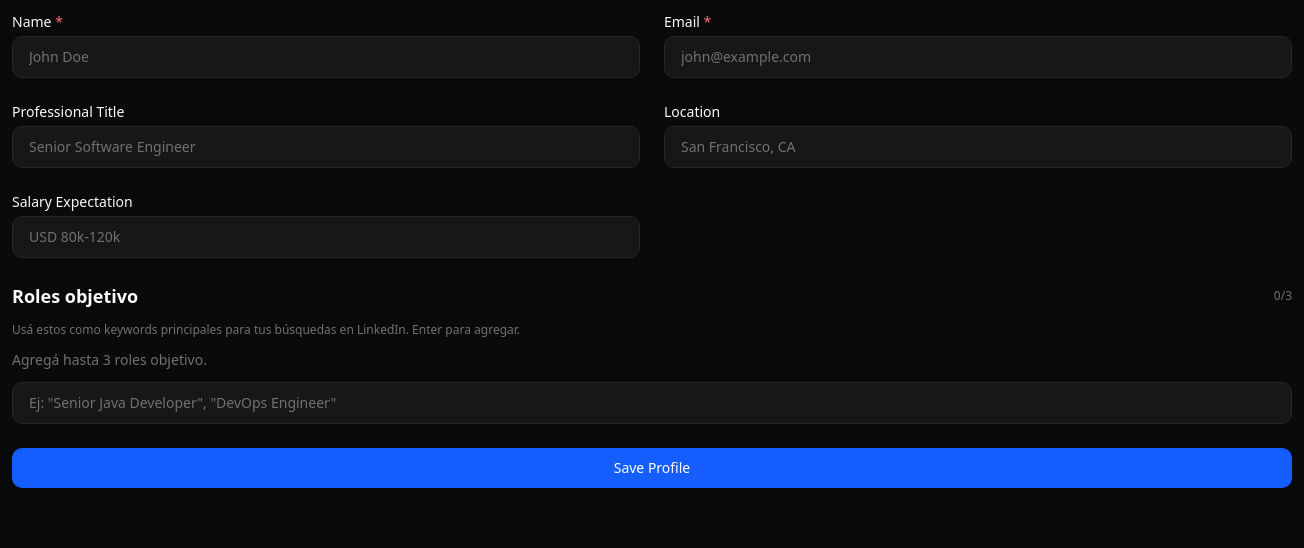
Test: ProfileForm › shows success message after save
The width and height of the screenshot is (1304, 548).
Step 1. Type "Jane Doe" into the field labelled "Name *" → x=326, y=57, box top-left (12, 36), bottom-right (640, 78)
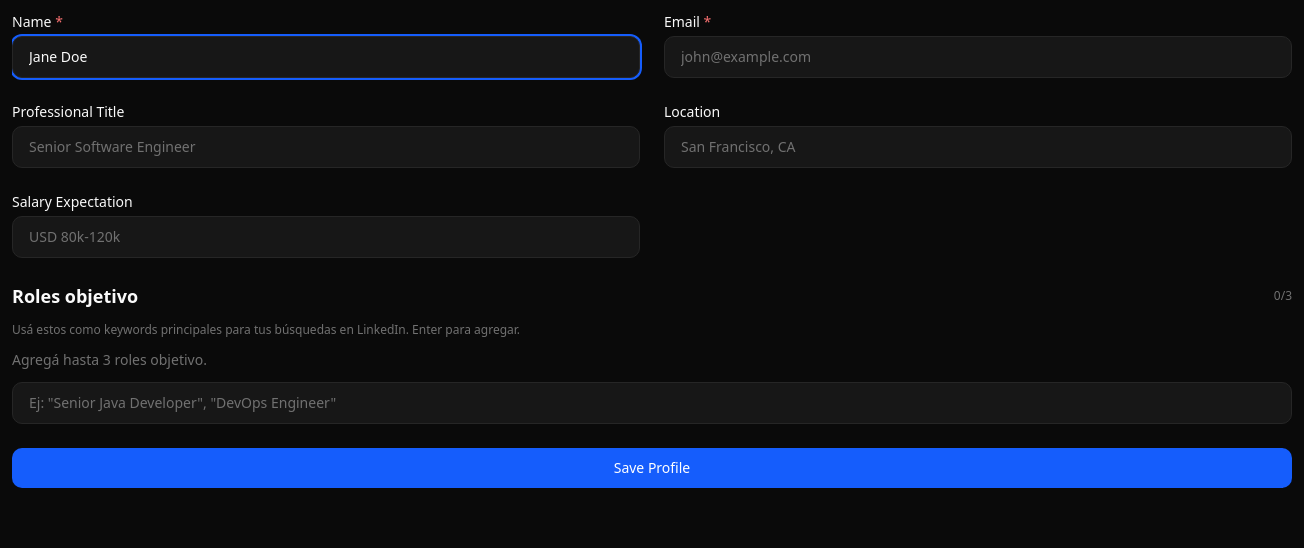
Step 2. Type "jane@example.com" into the field labelled "Email *" → x=978, y=57, box top-left (664, 36), bottom-right (1292, 78)
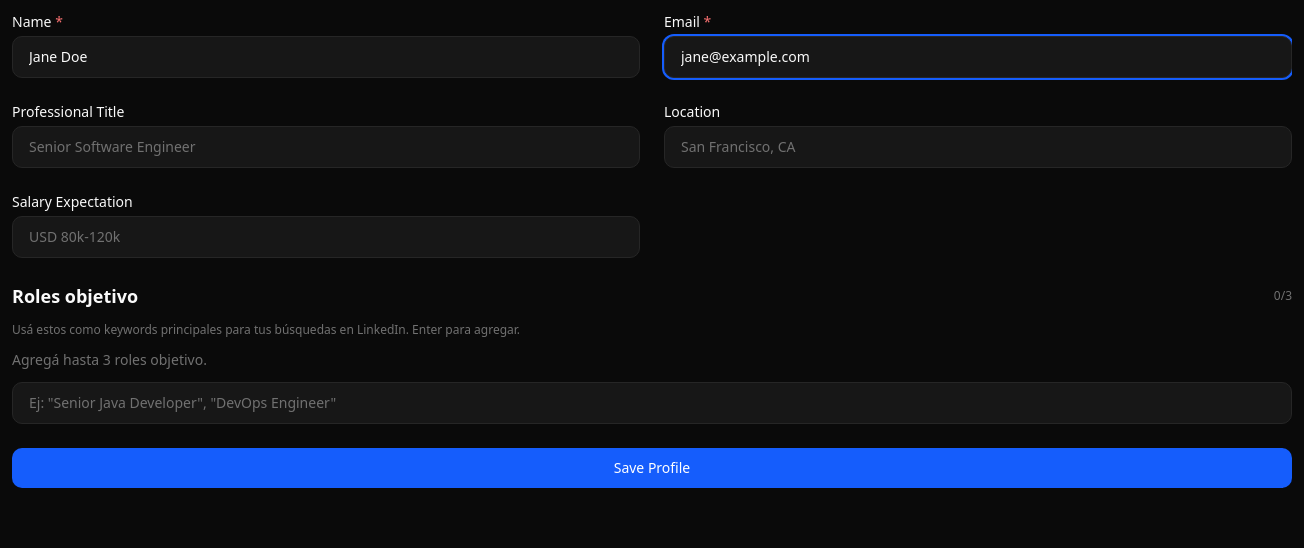
Step 3. Click the button "Save Profile" → x=652, y=468, box top-left (12, 448), bottom-right (1292, 488)
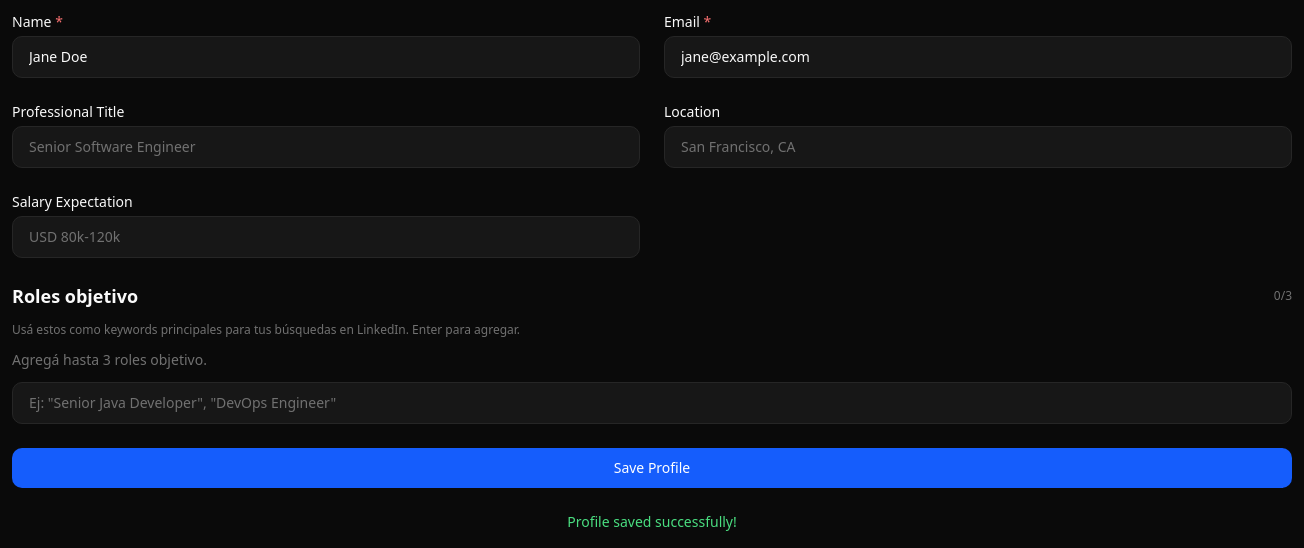
expect the text "Profile saved successfully!" is shown: met, box top-left (567, 512), bottom-right (737, 531)
